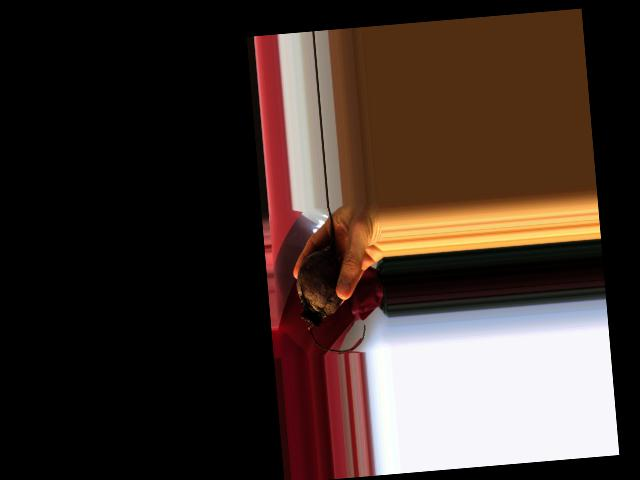beet: (290, 204, 367, 356)
